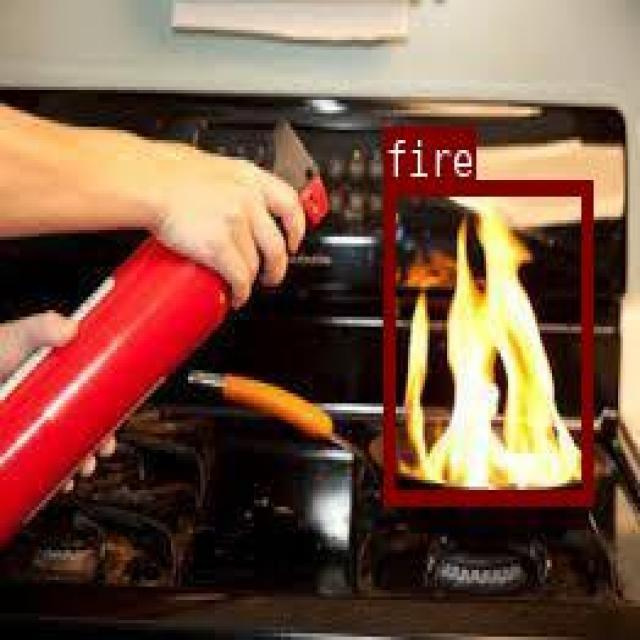fire: (382, 177, 591, 502)
